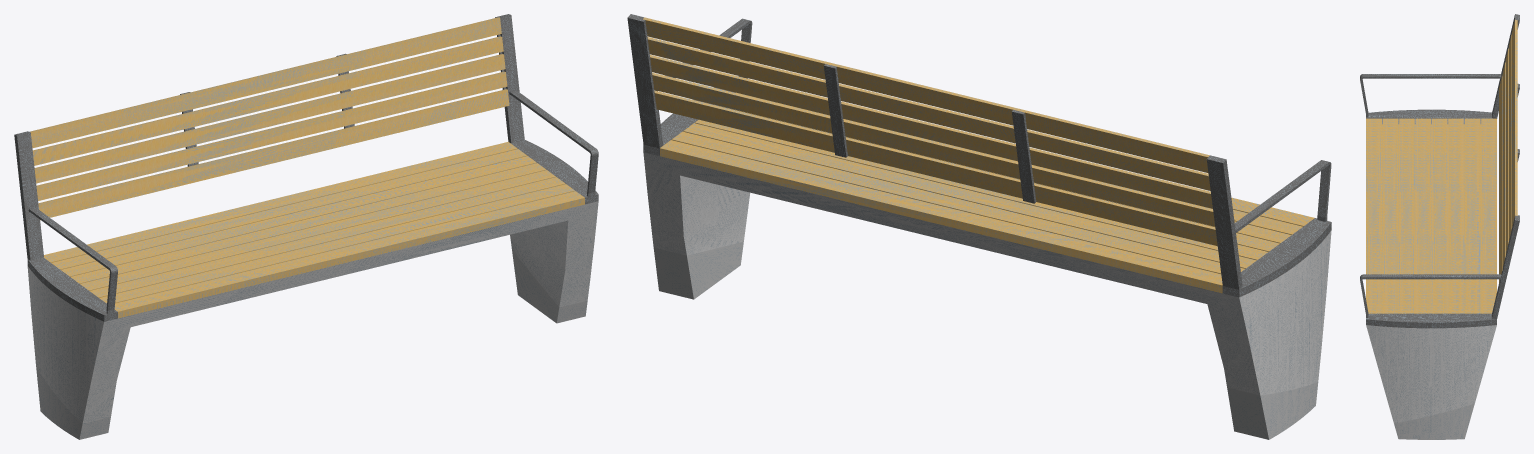
Rendered from bench.dae.
3 renders of one model, left to right at view 1: azimuth 30°, elevation 25°; view 2: azimuth 150°, elevation 25°; view 3: azimuth 270°, elevation 25°, orthographic. The views are drawn at different scales.
Parts seen in each view (by area): view 1: group_0 (×6), group_1 (×7), group_2, group_3; view 2: group_0 (×6), group_1 (×9), group_3; view 3: group_0 (×5), group_1 (×7), group_2, group_3.
Boxes of the visible parts, x1,y1,x2,y2 form: group_0 (×6): (27, 140, 598, 439); group_1 (×7): (14, 14, 524, 260); group_2: (509, 90, 598, 196); group_3: (28, 207, 117, 313); group_0 (×6): (643, 87, 1331, 439); group_1 (×9): (627, 14, 1242, 289); group_3: (1234, 160, 1331, 232); group_0 (×5): (1366, 109, 1496, 439); group_1 (×7): (1492, 14, 1519, 319); group_2: (1360, 274, 1501, 317); group_3: (1360, 74, 1501, 117).
Size of the model in its own units: 75.71 by 24.02 by 35.86.
